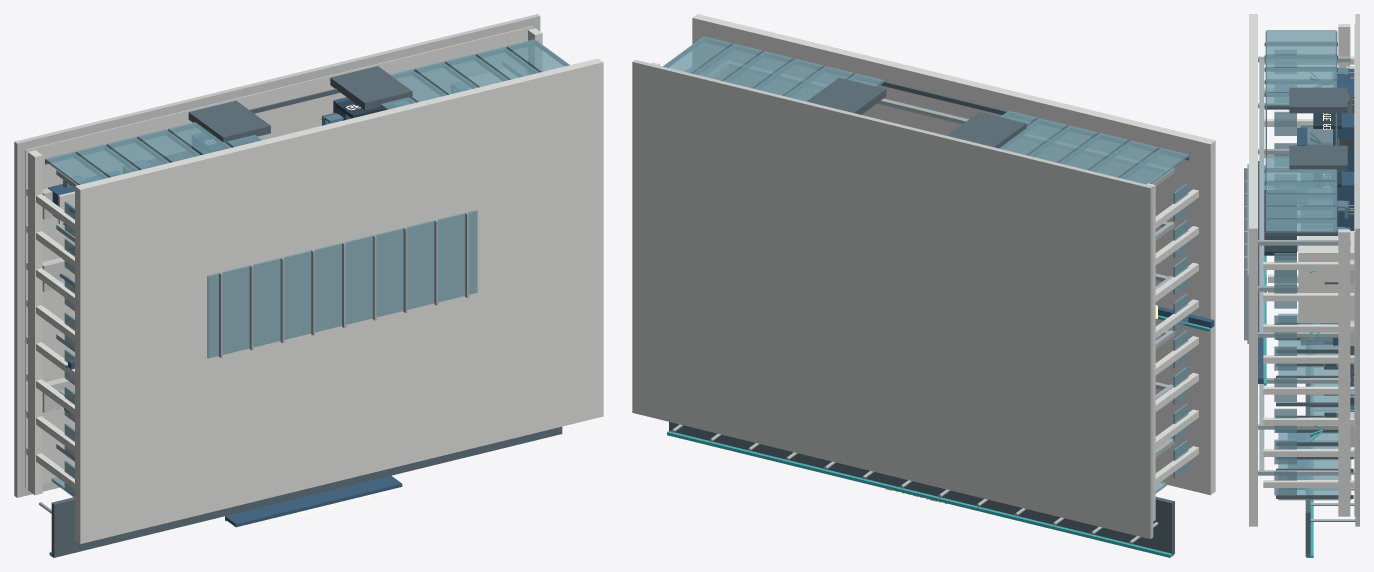
The model's file is gridlock_airport_terminal.glb.
The picture shows the model from 3 angles, left to right: view 1: azimuth 30°, elevation 25°; view 2: azimuth 150°, elevation 25°; view 3: azimuth 270°, elevation 25°; orthographic projection. The views are drawn at different scales.
Visible parts, largest first — view 1: Terminal_stone_LOD0, Terminal_glass_LOD0, Terminal_floor_LOD0, Terminal_frame_LOD0, Terminal_concrete_LOD0, Terminal_steel_LOD0, Terminal_navy_LOD0, Terminal_display_LOD0; view 2: Terminal_concrete_LOD0, Terminal_stone_LOD0, Terminal_glass_LOD0, Terminal_frame_LOD0, Terminal_steel_LOD0, Terminal_teal_LOD0; view 3: Terminal_glass_LOD0, Terminal_stone_LOD0, Terminal_frame_LOD0, Terminal_steel_LOD0, Terminal_navy_LOD0, Terminal_concrete_LOD0, Terminal_display_LOD0, Terminal_floor_LOD0, Terminal_teal_LOD0, Terminal_seat_LOD0, Terminal_dark_LOD0.
Part boxes in pixels (<box>): Terminal_stone_LOD0: <box>26,28,603,543</box>; Terminal_glass_LOD0: <box>45,39,569,497</box>; Terminal_floor_LOD0: <box>25,26,533,488</box>; Terminal_frame_LOD0: <box>45,40,568,557</box>; Terminal_concrete_LOD0: <box>14,14,540,497</box>; Terminal_steel_LOD0: <box>39,60,526,513</box>; Terminal_navy_LOD0: <box>48,97,402,527</box>; Terminal_display_LOD0: <box>195,100,395,152</box>; Terminal_concrete_LOD0: <box>632,60,1153,539</box>; Terminal_stone_LOD0: <box>651,14,1215,521</box>; Terminal_glass_LOD0: <box>663,36,1189,493</box>; Terminal_frame_LOD0: <box>664,37,1189,555</box>; Terminal_steel_LOD0: <box>671,60,1174,544</box>; Terminal_teal_LOD0: <box>667,315,1210,557</box>; Terminal_glass_LOD0: <box>1247,30,1351,500</box>; Terminal_stone_LOD0: <box>1249,14,1354,526</box>; Terminal_frame_LOD0: <box>1264,31,1353,557</box>; Terminal_steel_LOD0: <box>1244,56,1355,521</box>; Terminal_navy_LOD0: <box>1258,69,1354,489</box>; Terminal_concrete_LOD0: <box>1346,14,1359,526</box>; Terminal_display_LOD0: <box>1264,113,1341,417</box>; Terminal_floor_LOD0: <box>1354,24,1355,516</box>; Terminal_teal_LOD0: <box>1264,72,1324,557</box>; Terminal_seat_LOD0: <box>1337,68,1347,233</box>; Terminal_dark_LOD0: <box>1340,96,1352,149</box>.
Bounding box in the file's own units: 3450 × 2480 × 776.
